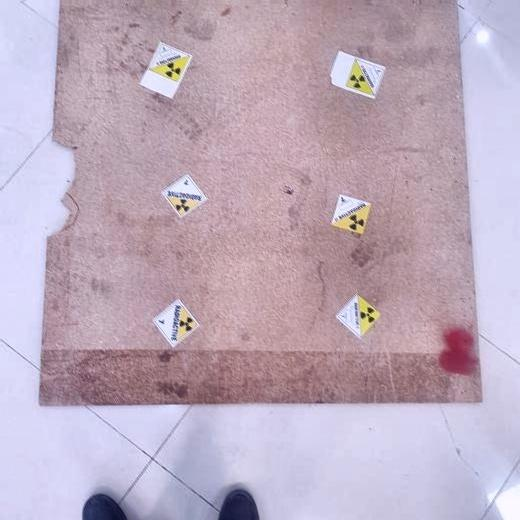radioactive: (334, 292, 381, 338), (153, 299, 199, 344), (146, 40, 193, 82), (163, 174, 206, 217), (330, 192, 371, 234), (346, 54, 384, 95)
